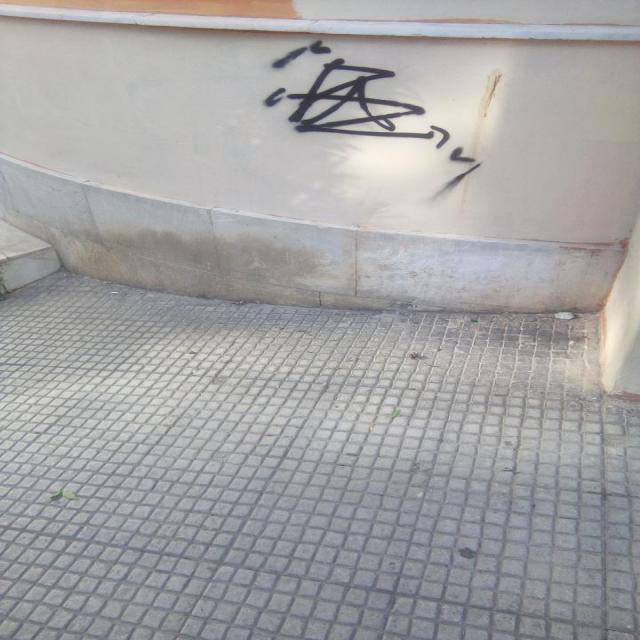nonspitting: (263, 37, 481, 192)
